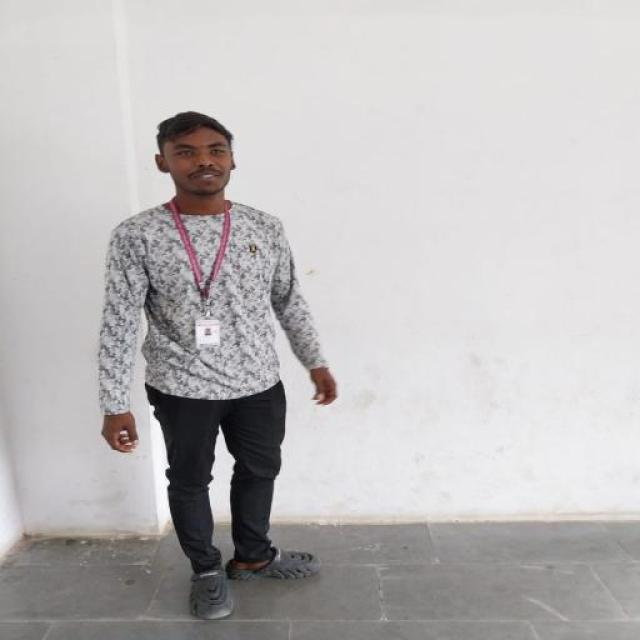id_card: (170, 192, 234, 346)
